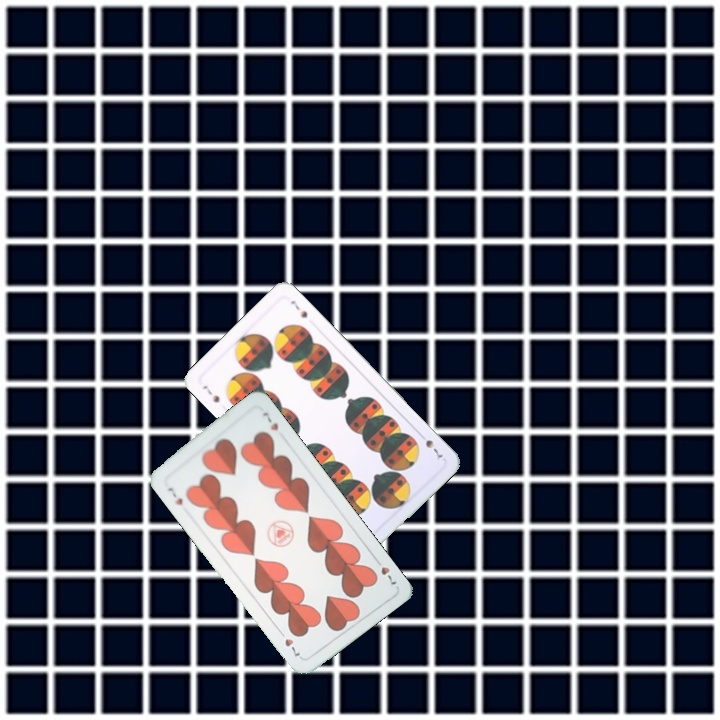H7: (370, 554, 400, 587), (163, 483, 185, 508)
S7: (415, 429, 445, 462), (198, 381, 222, 405)
